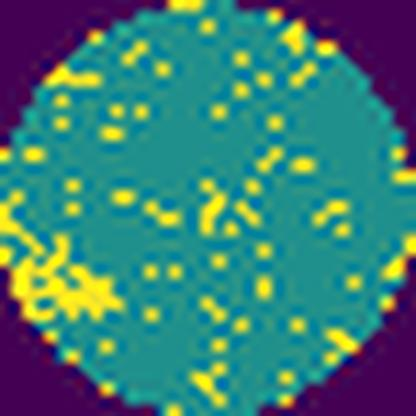Loc: (0, 190, 127, 326)
